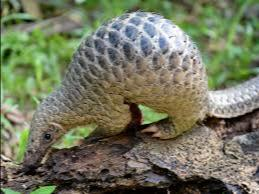Non_Gorille: (5, 3, 250, 172)
